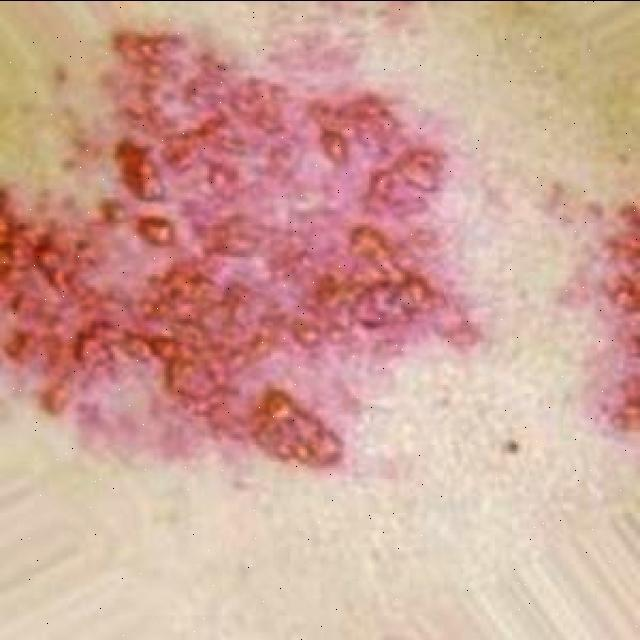Shingles: (0, 28, 640, 467)
